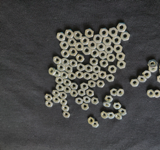nut: (117, 22, 127, 33), (88, 40, 98, 50), (121, 32, 132, 41), (149, 64, 159, 73), (130, 78, 140, 87), (109, 88, 118, 98), (109, 27, 118, 37), (116, 52, 126, 61), (113, 44, 123, 53), (103, 37, 113, 46), (69, 47, 78, 57), (142, 71, 153, 79), (149, 60, 158, 69), (108, 65, 117, 74), (70, 90, 79, 99), (100, 59, 109, 68), (105, 45, 114, 54), (100, 27, 109, 36), (98, 51, 107, 60), (81, 36, 90, 45), (65, 30, 74, 39), (61, 49, 70, 58), (75, 42, 84, 51), (55, 76, 64, 85), (112, 36, 122, 44), (107, 54, 117, 62), (86, 28, 94, 38), (138, 75, 147, 83), (118, 61, 127, 69), (108, 112, 116, 121), (100, 111, 108, 120), (117, 88, 125, 97), (104, 95, 113, 103), (91, 97, 99, 106), (59, 92, 68, 100), (97, 79, 105, 88), (91, 73, 99, 82), (90, 58, 99, 66), (83, 72, 91, 81), (85, 65, 93, 74), (77, 54, 85, 63), (97, 43, 106, 51), (57, 33, 66, 41), (74, 31, 82, 40), (77, 63, 85, 72), (70, 59, 78, 68), (61, 57, 69, 66), (60, 71, 68, 80), (148, 89, 155, 99), (119, 109, 127, 117), (114, 102, 122, 110), (115, 113, 123, 121), (87, 118, 95, 126), (83, 96, 91, 104), (76, 98, 84, 106), (52, 90, 60, 98), (107, 74, 115, 82), (99, 71, 107, 79), (88, 80, 96, 88), (86, 89, 94, 97), (78, 89, 86, 97), (93, 66, 101, 74), (94, 35, 102, 43), (91, 49, 99, 57), (83, 47, 91, 55), (60, 42, 68, 50), (77, 55, 85, 63), (57, 64, 65, 72), (68, 72, 76, 80), (62, 112, 71, 119), (45, 94, 54, 101), (80, 83, 89, 90), (54, 56, 61, 65), (70, 82, 77, 91), (103, 102, 111, 109), (81, 104, 89, 111), (62, 105, 70, 112), (60, 99, 68, 106), (53, 97, 60, 105), (64, 86, 71, 94), (56, 85, 64, 92), (76, 71, 83, 79), (68, 39, 76, 46), (66, 65, 73, 73), (154, 89, 160, 98), (49, 67, 55, 76), (92, 121, 99, 128), (46, 101, 53, 108), (54, 70, 61, 77), (64, 79, 71, 86), (103, 102, 111, 108), (158, 75, 160, 84), (159, 68, 160, 75)
